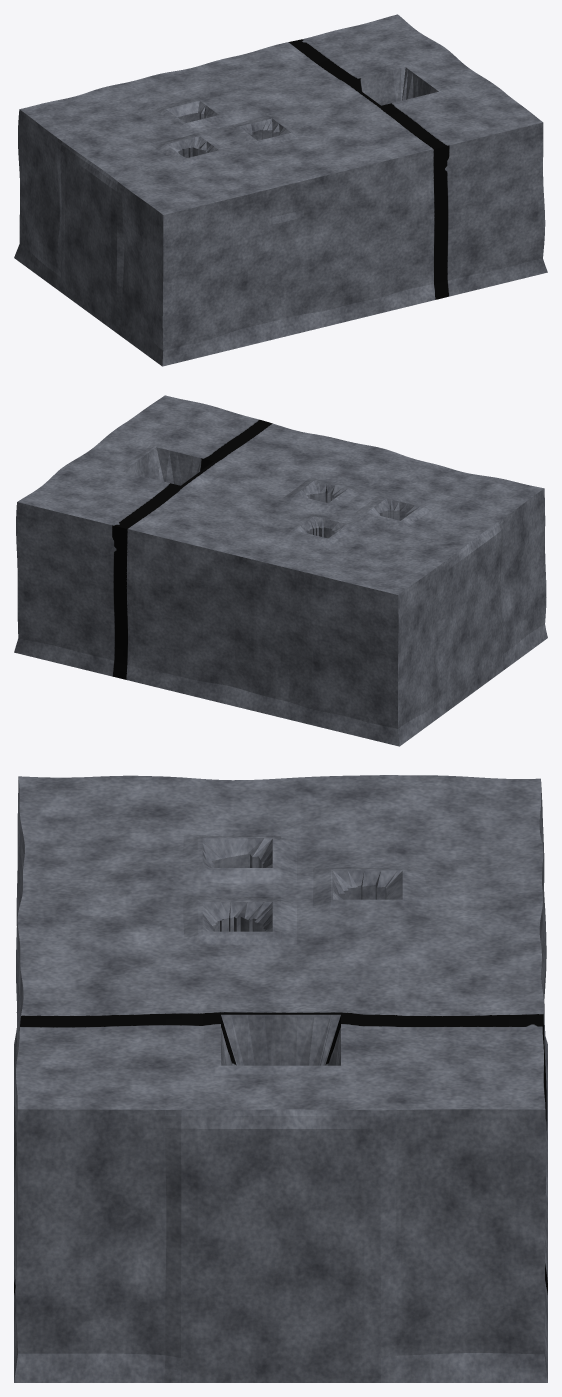
The model's file is cave_gate.glb.
3 views of the same model, one above another, from view 1: azimuth 30°, elevation 25°; view 2: azimuth 150°, elevation 25°; view 3: azimuth 270°, elevation 25° (orthographic). The views are drawn at different scales.
Visible parts, largest first — view 1: CaveGate; view 2: CaveGate; view 3: CaveGate.
Boxes of the visible parts, x1,y1,x2,y2 form: CaveGate: (14, 14, 547, 366); CaveGate: (14, 395, 547, 746); CaveGate: (14, 775, 547, 1382).
Bounding box in the file's own units: 24 × 9 × 16.
1 material, 1 textured.
